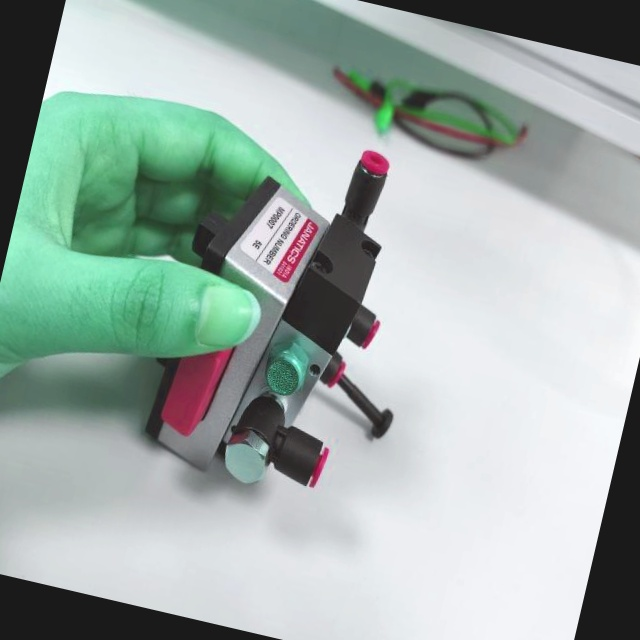5by2 DCV: (129, 94, 463, 526)
